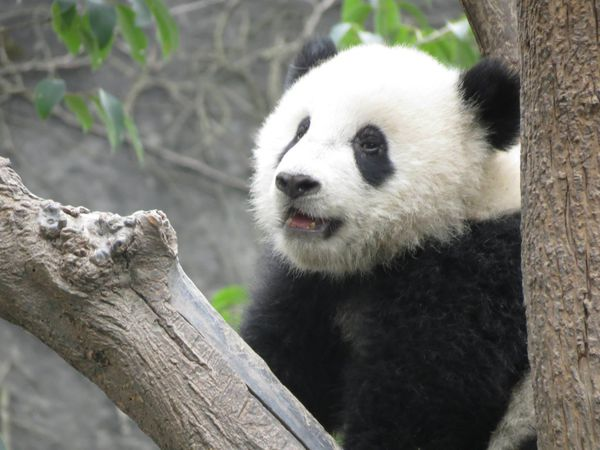panda: (232, 29, 542, 450)
